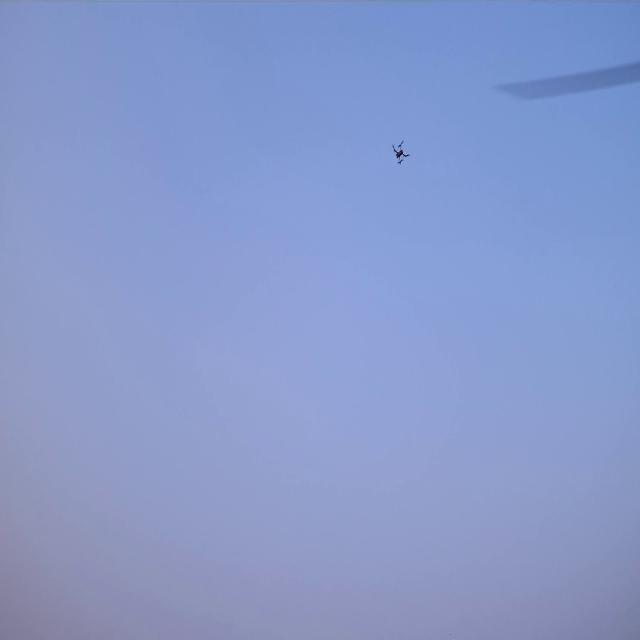UAV: (393, 144, 408, 163)
